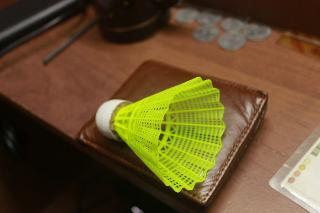shuttlecock: (95, 76, 225, 191)
